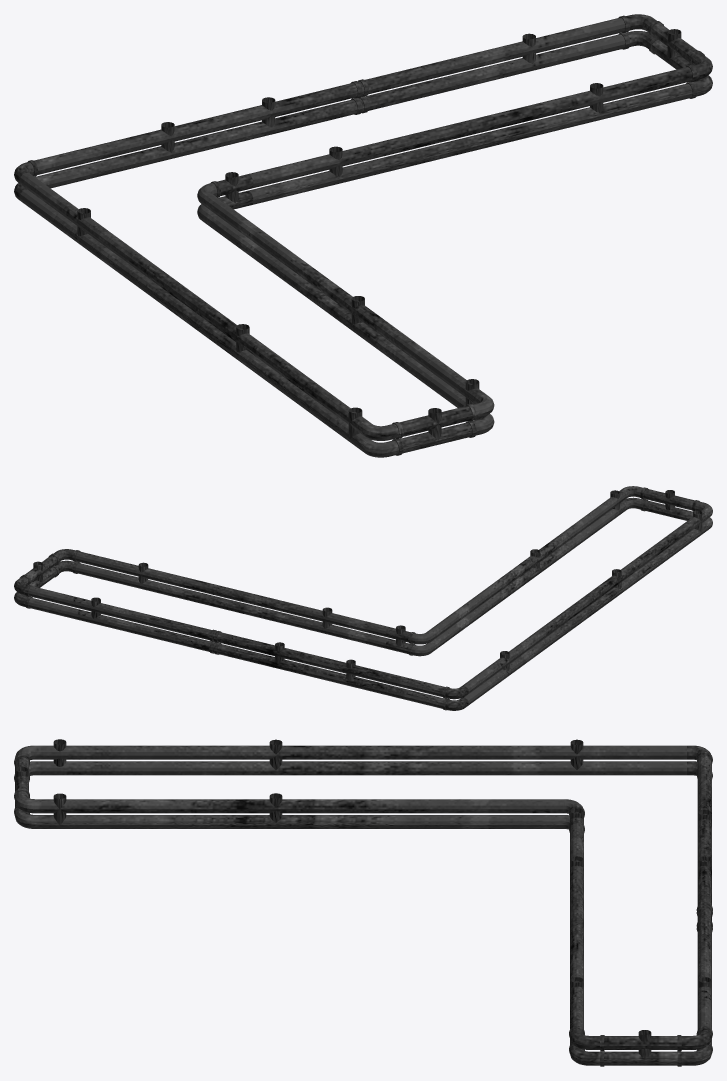
Rendered from Blue_Chipped_Pipe.fbx.
3 renders of one model, top to bottom at view 1: azimuth 30°, elevation 25°; view 2: azimuth 150°, elevation 25°; view 3: azimuth 270°, elevation 25°, orthographic. The views are drawn at different scales.
Parts seen in each view (by area): view 1: Grey_Chipped_Pipe; view 2: Grey_Chipped_Pipe; view 3: Grey_Chipped_Pipe.
Boxes of the visible parts, x1,y1,x2,y2 form: Grey_Chipped_Pipe: (14,14,712,457); Grey_Chipped_Pipe: (14,486,712,710); Grey_Chipped_Pipe: (14,739,712,1066).
Bounding box in the file's own units: 40.56 × 2.13 × 40.37.
